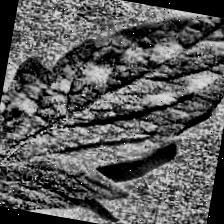leaf mold: (0, 0, 224, 217)
